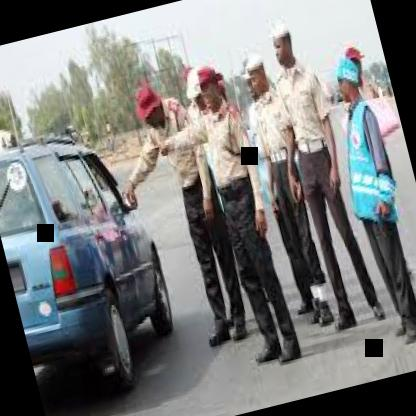car: (0, 92, 201, 412)
